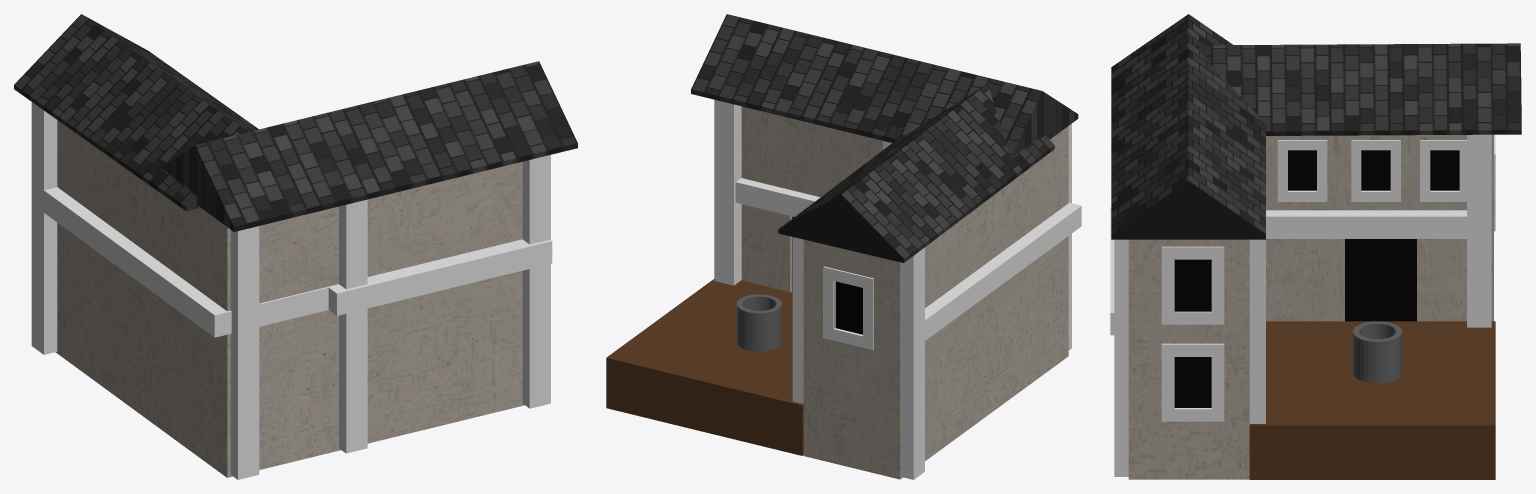
File: TownCenter.fbx
3 views of the same model, side by side, from view 1: azimuth 30°, elevation 25°; view 2: azimuth 150°, elevation 25°; view 3: azimuth 270°, elevation 25° (orthographic). The views are drawn at different scales.
Visible parts, largest first — view 1: Body, Cube, Cube.001, WindowsFrame.010, WindowsFrame.011, WindowsFrame.009, WindowsFrame.007, WindowsFrame.006, WindowsFrame.008; view 2: Body, Cube, Cube.002, Cube.001, WindowsFrame.008, WindowsFrame.010, WindowsFrame.006, Cylinder, WindowsFrame.005, WindowsFrame.009, Windows1.005, WindowsFrame.011; view 3: Body, Cube.002, Cube, Cube.001, WindowsFrame.006, Windows1.006, WindowsFrame.010, WindowsFrame.008, WindowsFrame, WindowsFrame.001, Cylinder, WindowsFrame.002 (+8 smaller).
Boxes of the visible parts, left/top/right/bottom form: Body: left=55, top=120, right=524, bottom=477; Cube: left=160, top=61, right=577, bottom=231; Cube.001: left=14, top=14, right=258, bottom=211; WindowsFrame.010: left=44, top=187, right=339, bottom=337; WindowsFrame.011: left=230, top=226, right=259, bottom=479; WindowsFrame.009: left=328, top=239, right=552, bottom=315; WindowsFrame.007: left=339, top=199, right=367, bottom=453; WindowsFrame.006: left=522, top=155, right=550, bottom=408; WindowsFrame.008: left=31, top=102, right=57, bottom=354; Body: left=741, top=106, right=1068, bottom=479; Cube: left=691, top=14, right=1078, bottom=158; Cube.002: left=606, top=279, right=803, bottom=455; Cube.001: left=778, top=84, right=1054, bottom=262; WindowsFrame.008: left=792, top=237, right=924, bottom=479; WindowsFrame.010: left=925, top=202, right=1081, bottom=340; WindowsFrame.006: left=714, top=99, right=741, bottom=285; Cylinder: left=737, top=294, right=781, bottom=351; WindowsFrame.005: left=823, top=266, right=873, bottom=349; WindowsFrame.009: left=735, top=178, right=820, bottom=216; Windows1.005: left=836, top=281, right=862, bottom=334; WindowsFrame.011: left=1068, top=123, right=1071, bottom=350; Body: left=1128, top=134, right=1493, bottom=479; Cube.002: left=1249, top=321, right=1495, bottom=479; Cube: left=1111, top=14, right=1265, bottom=239; Cube.001: left=1194, top=43, right=1521, bottom=135; WindowsFrame.006: left=1114, top=239, right=1265, bottom=476; Windows1.006: left=1345, top=239, right=1416, bottom=321; WindowsFrame.010: left=1266, top=210, right=1471, bottom=238; WindowsFrame.008: left=1467, top=134, right=1491, bottom=327; WindowsFrame: left=1161, top=246, right=1224, bottom=324; WindowsFrame.001: left=1161, top=343, right=1224, bottom=421; Cylinder: left=1353, top=321, right=1401, bottom=383; WindowsFrame.002: left=1277, top=140, right=1327, bottom=201.
Size of the model in its own units: 336 by 279 by 335.
